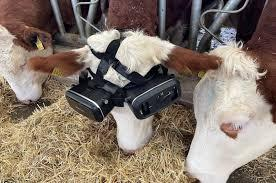cow: (29, 0, 225, 154), (185, 1, 276, 183), (0, 0, 55, 103)
